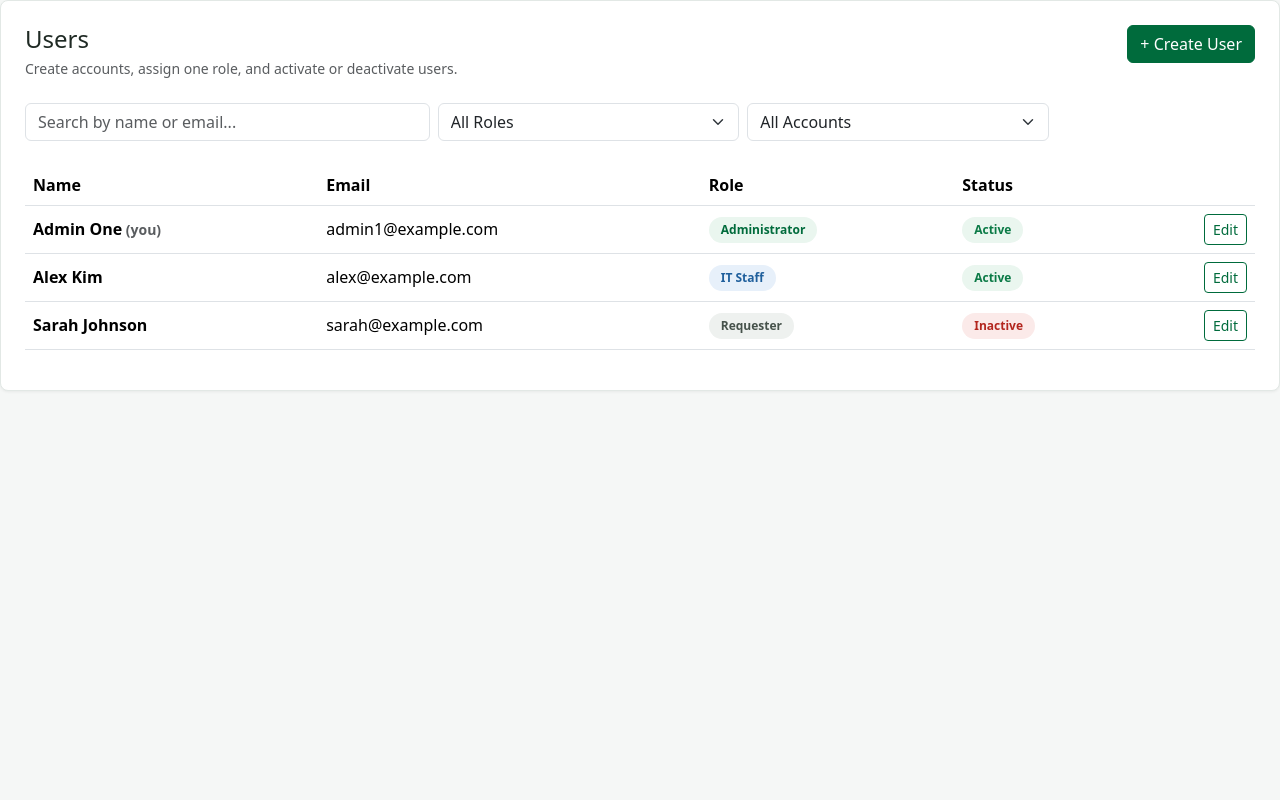
Scenario: UserManagement (UI-05) › shows a duplicate-email error under the Email field
Step 1. Click the button "+ Create User" → (1191, 44), box [1127, 25, 1255, 63]
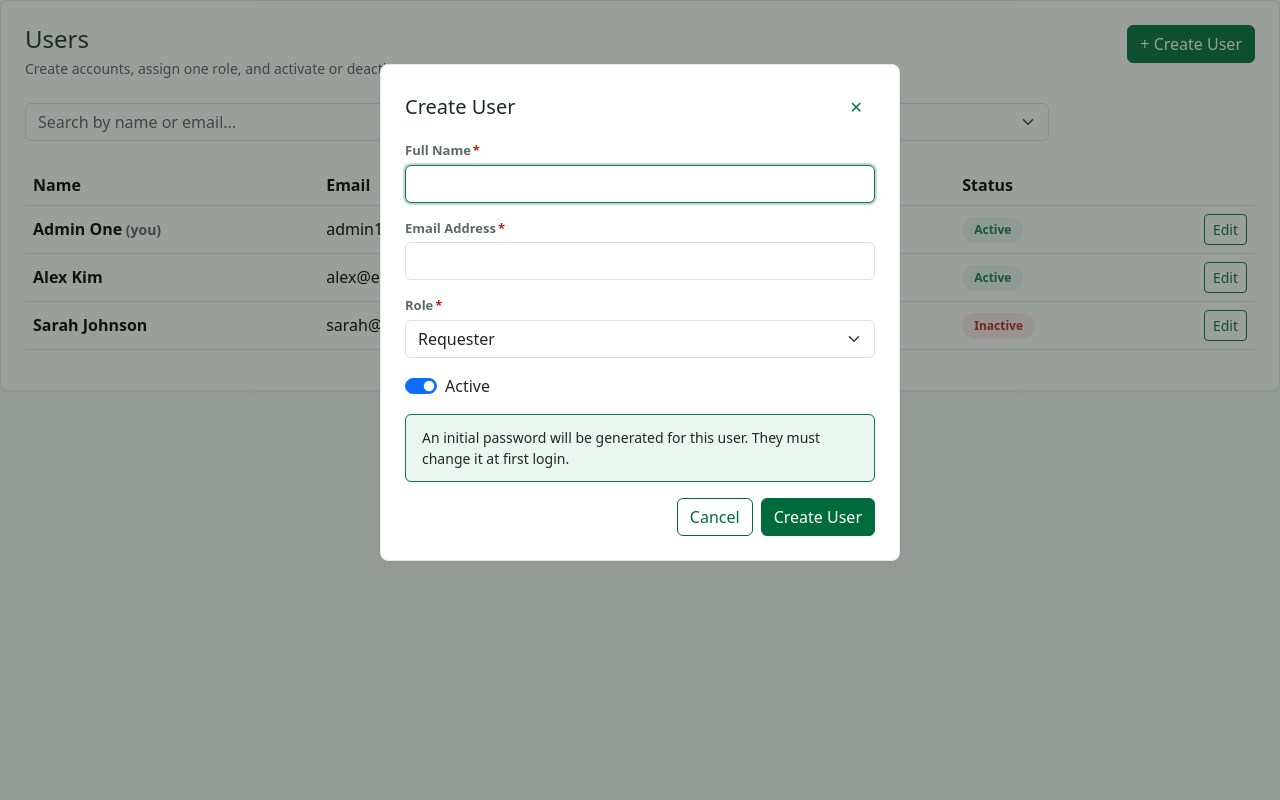
Step 2. Type "Copycat" into the field labelled "Full Name*" → (640, 184), box [405, 164, 875, 202]
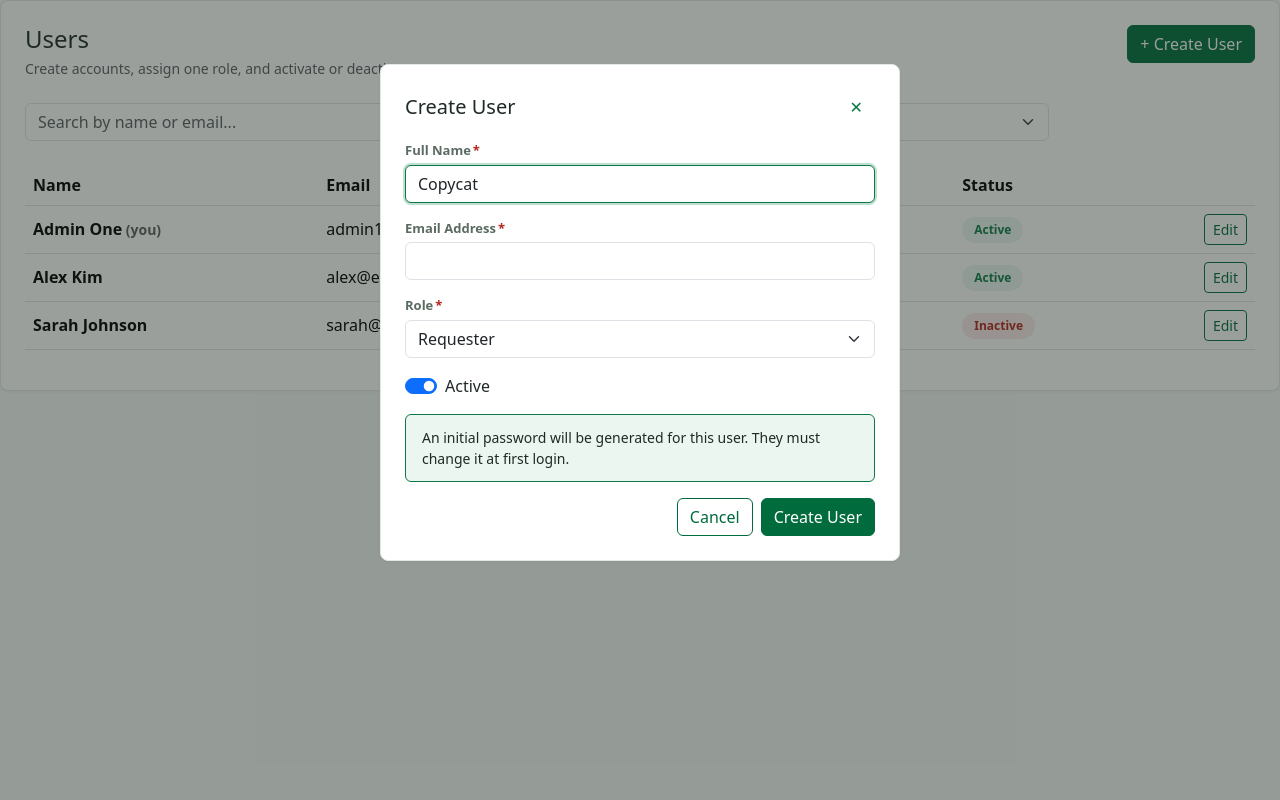
Step 3. Type "alex@example.com" into the field labelled "Email Address*" → (640, 261), box [405, 242, 875, 280]
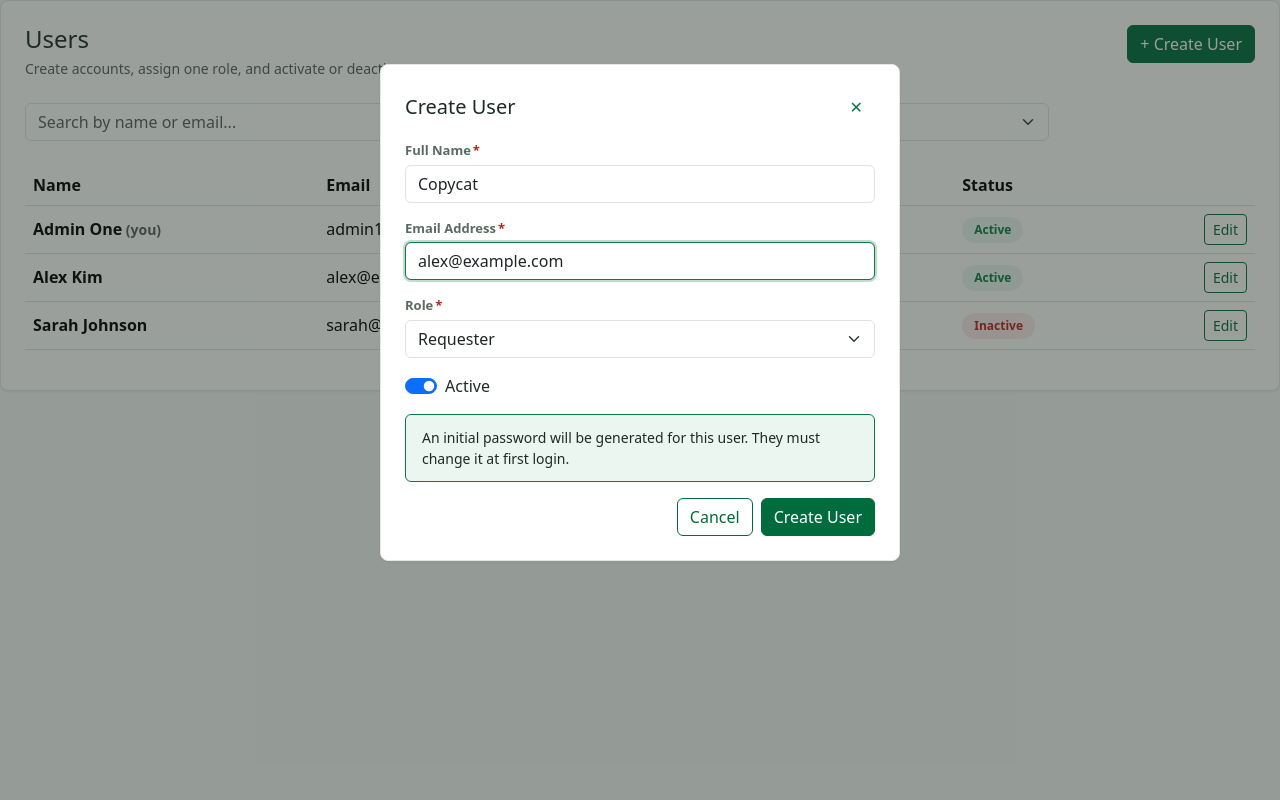
Step 4. Click the button "Create User" → (818, 516), box [761, 498, 875, 536]
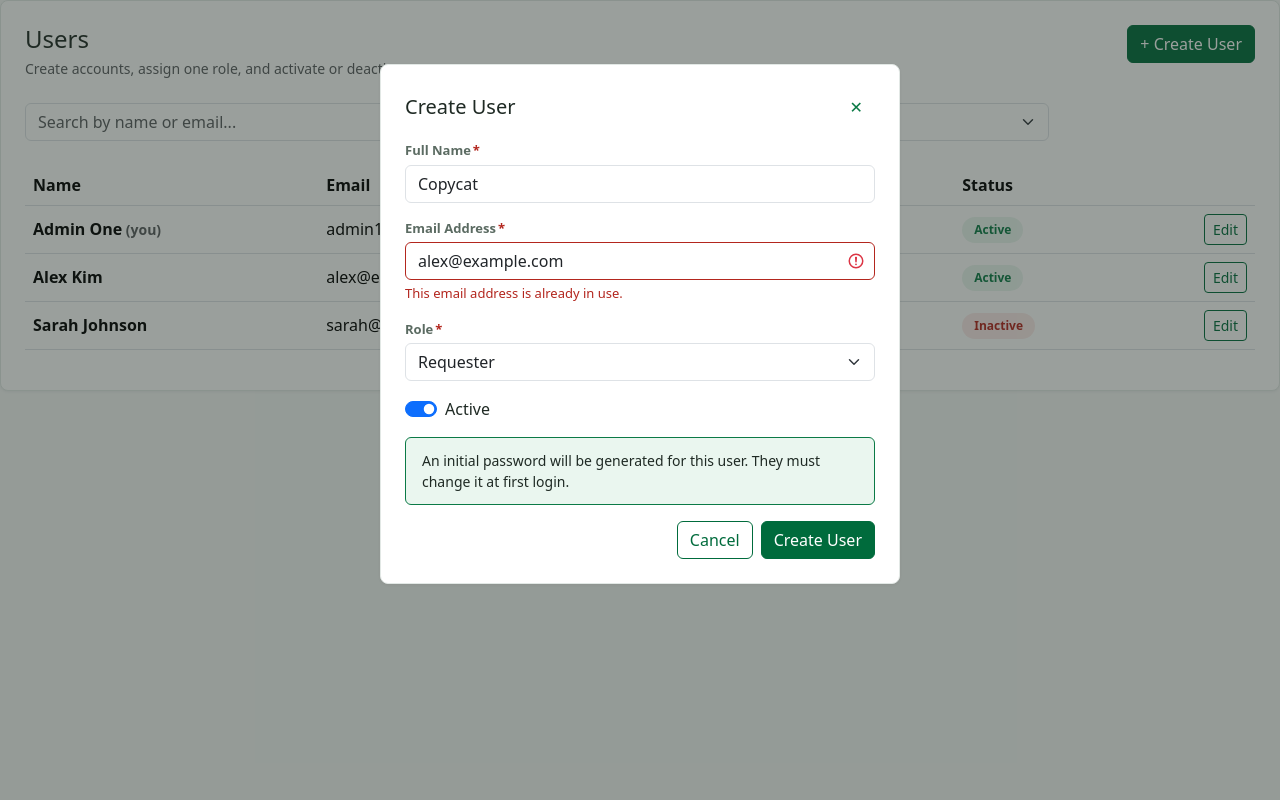
Expected: the dialog is shown, [380, 64, 900, 584]
Expected: the text "This email address is already in use." is shown, [405, 284, 623, 302]
